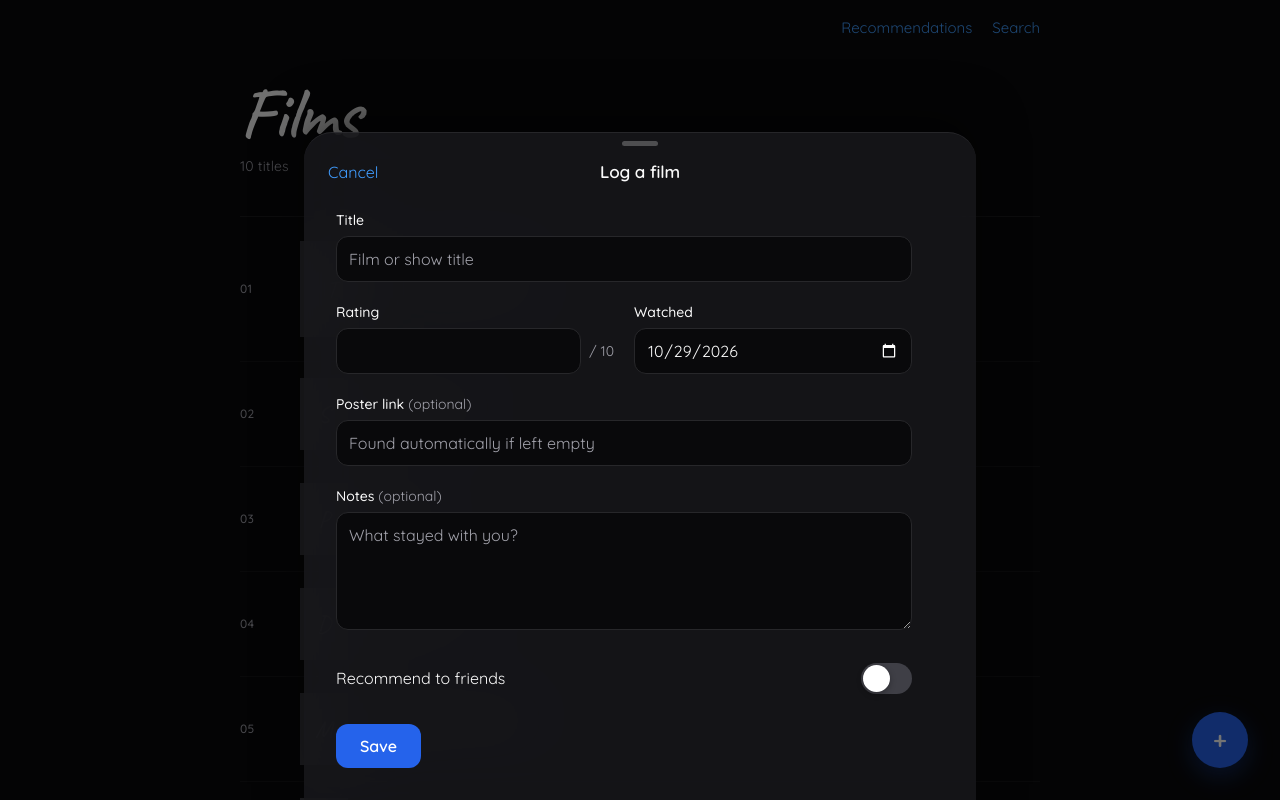
Scenario: App › blocks saving a film with no title or rating
Step 1. Click the button "Save" → (379, 746), box [336,724,421,768]
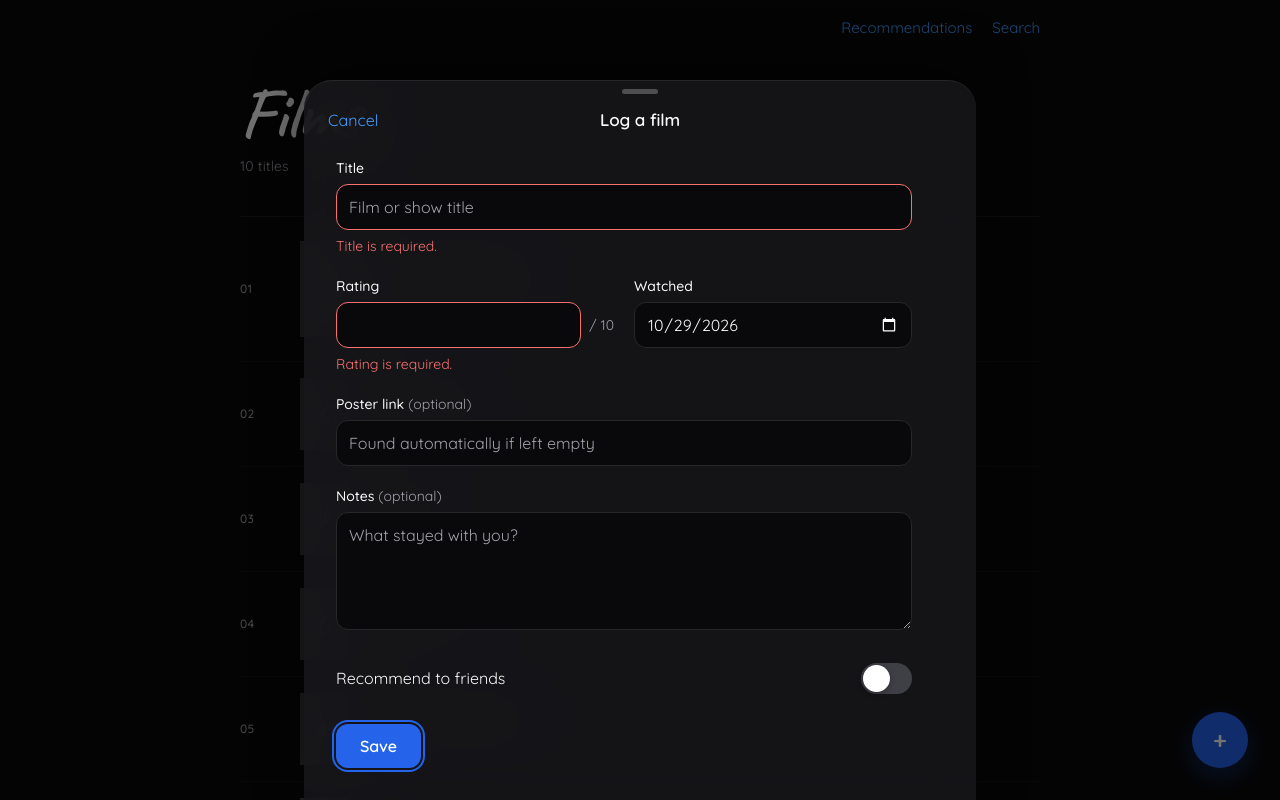
Now the text "Title is required." is shown, box [336,237,437,255]
Now the text "Rating is required." is shown, box [336,355,452,373]
